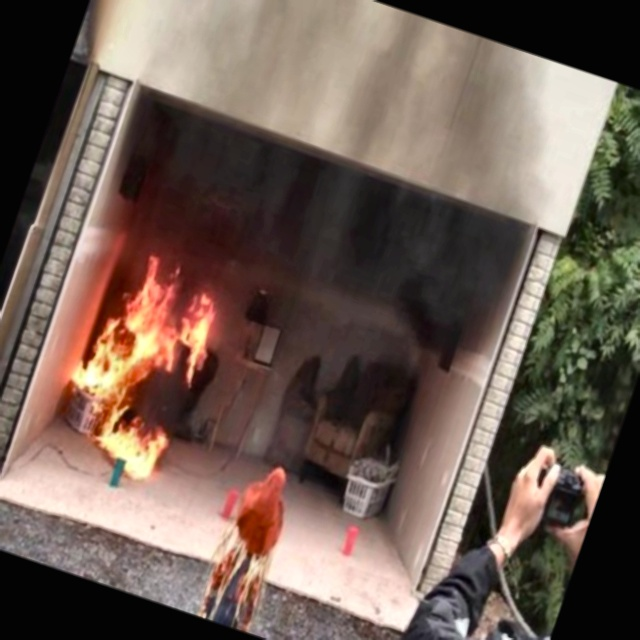fire: (50, 237, 249, 487)
smoke: (98, 96, 529, 361)
